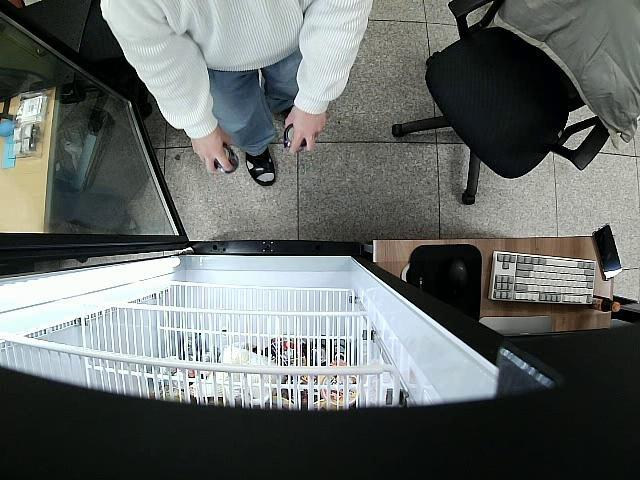14_welchsGrape: (214, 144, 241, 176), (281, 122, 308, 153)
